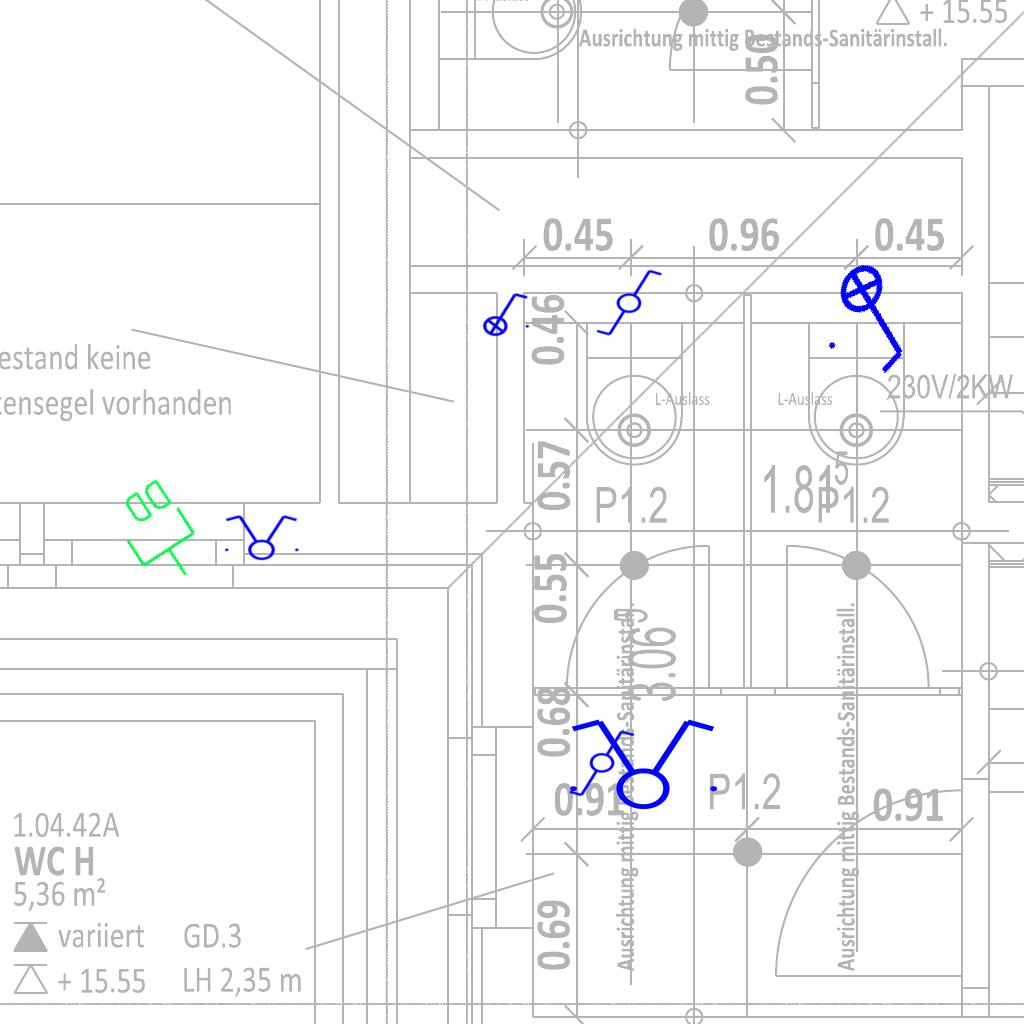Ausschalter_beleuchtet: (808, 244, 946, 388), (476, 289, 532, 337)
Datenanschluss_zweifach: (102, 471, 217, 596)
Serienschalter: (558, 715, 726, 811), (219, 513, 303, 561)
Wechselschalter: (586, 266, 664, 338), (567, 728, 645, 800)
